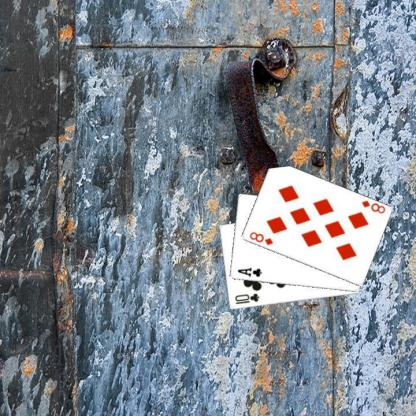10C: (232, 291, 261, 306)
8D: (247, 229, 274, 247), (359, 198, 386, 215)
AC: (235, 265, 262, 279)
